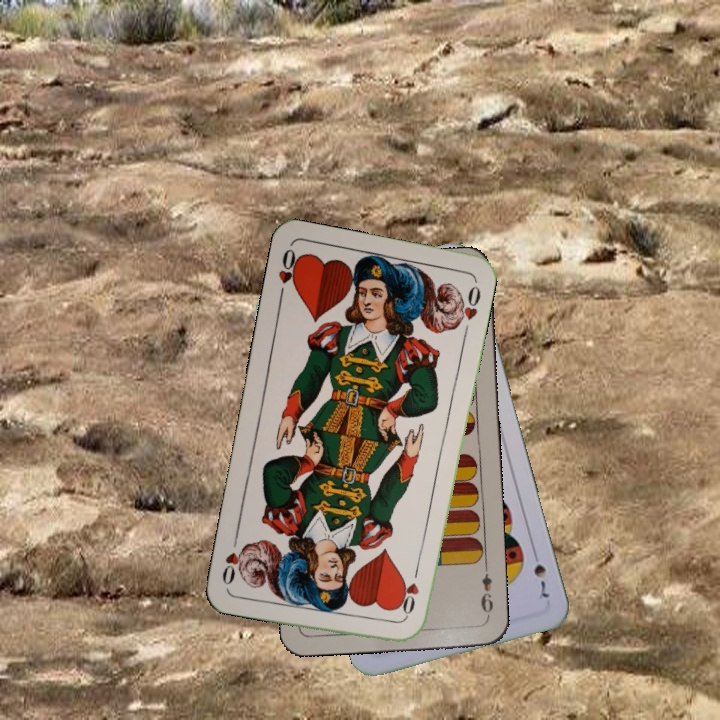E9: (477, 562, 496, 621)
HO: (274, 244, 303, 302), (398, 563, 422, 622)
S7: (528, 545, 552, 601)
